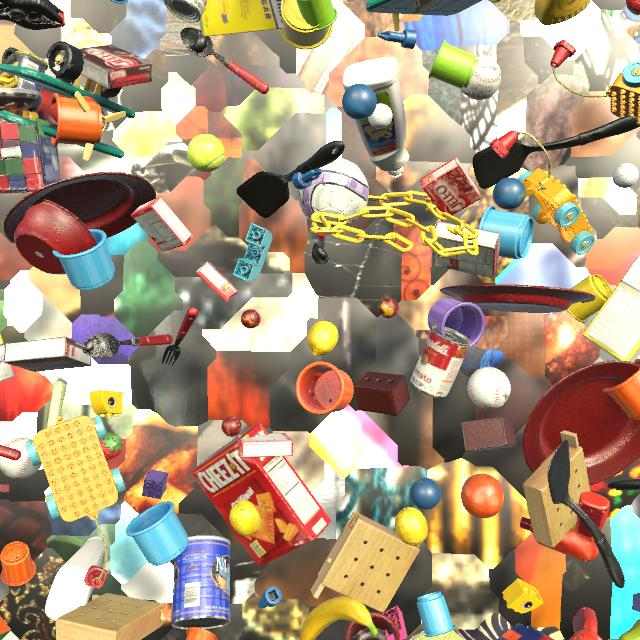ycb_002_master_chef_can: (172, 535, 231, 630)
ycb_003_cracker_box: (191, 422, 331, 567)
ycb_004_sugar_box: (582, 255, 640, 363), (199, 0, 285, 37), (0, 334, 14, 382)
ycb_005_tomato_soup_can: (410, 325, 471, 398), (164, 0, 207, 23)
ycb_006_mustard_bottle: (534, 0, 591, 25)
ycb_008_pudding_box: (431, 221, 500, 278), (80, 44, 152, 89), (4, 337, 91, 372), (413, 0, 444, 12)
ycb_009_gelatin_box: (420, 157, 482, 219), (131, 197, 193, 251), (196, 261, 239, 303), (235, 433, 293, 458)
ycb_010_potted_meat_can: (0, 50, 48, 92)
ycb_011_banana: (300, 596, 379, 640)
ycb_012_strawberry: (99, 432, 123, 460), (626, 0, 640, 15)
ycb_014_lemon: (395, 507, 428, 547), (229, 500, 260, 536), (307, 321, 338, 356)
ycb_016_pear: (618, 619, 640, 640)
ycb_017_orange: (461, 474, 504, 518)
